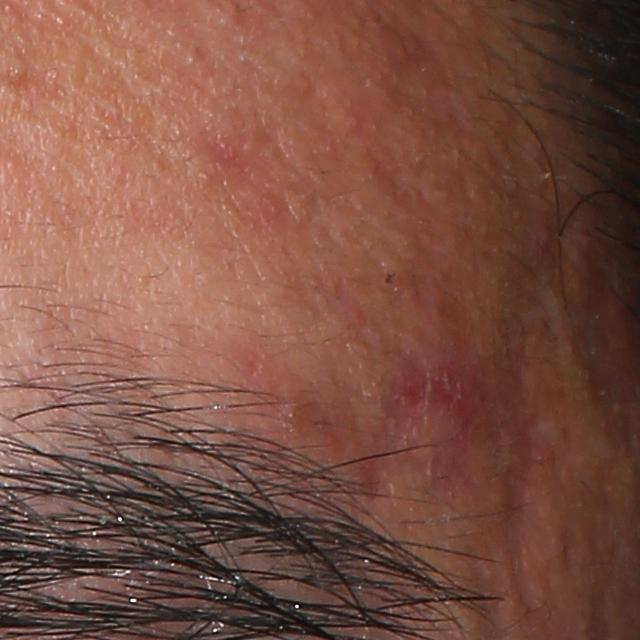atrophic_scar: (506, 384, 562, 639)
